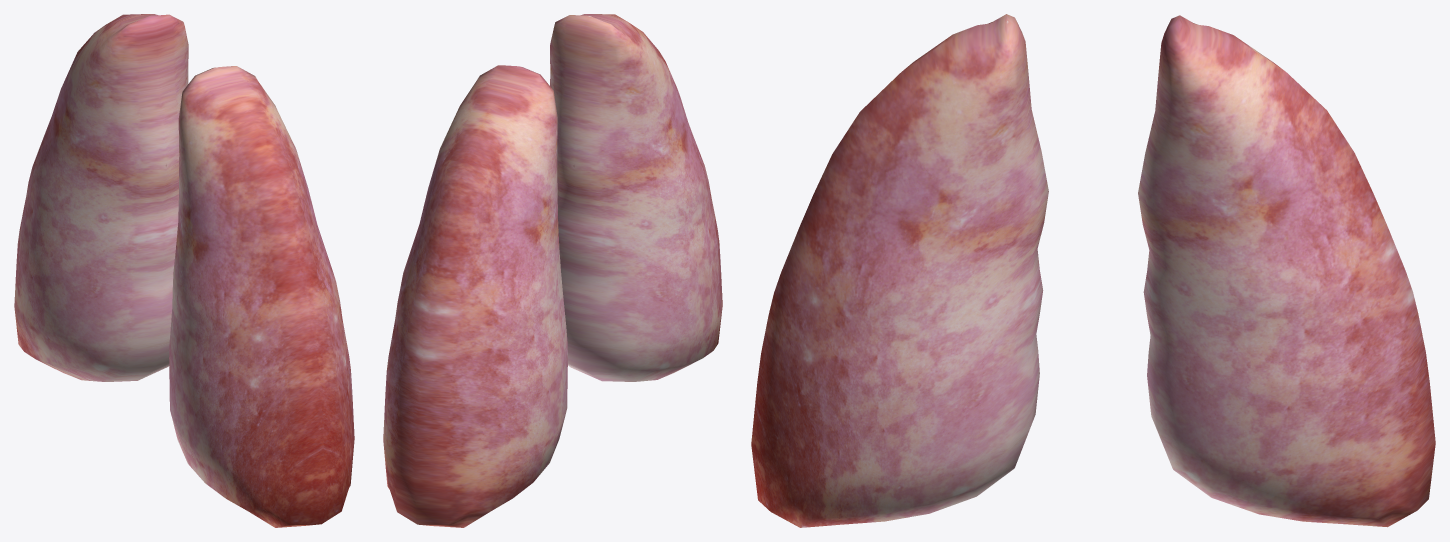
File: lungs.fbx
3 renders of one model, left to right at view 1: azimuth 30°, elevation 25°; view 2: azimuth 150°, elevation 25°; view 3: azimuth 270°, elevation 25°, orthographic. The views are drawn at different scales.
Parts seen in each view (by area): view 1: LUNGS2:pasted__pCube1, LUNGS2:pCube1; view 2: LUNGS2:pCube1, LUNGS2:pasted__pCube1; view 3: LUNGS2:pCube1, LUNGS2:pasted__pCube1.
Part boxes in pixels (x1,y1,x2,y2): LUNGS2:pasted__pCube1: (169,66,354,527); LUNGS2:pCube1: (14,14,188,381); LUNGS2:pCube1: (383,65,567,527); LUNGS2:pasted__pCube1: (550,14,722,381); LUNGS2:pCube1: (1138,15,1435,527); LUNGS2:pasted__pCube1: (751,14,1048,527).
Size of the model in its own units: 2.19 by 5.61 by 7.1.
1 material, 1 textured.
